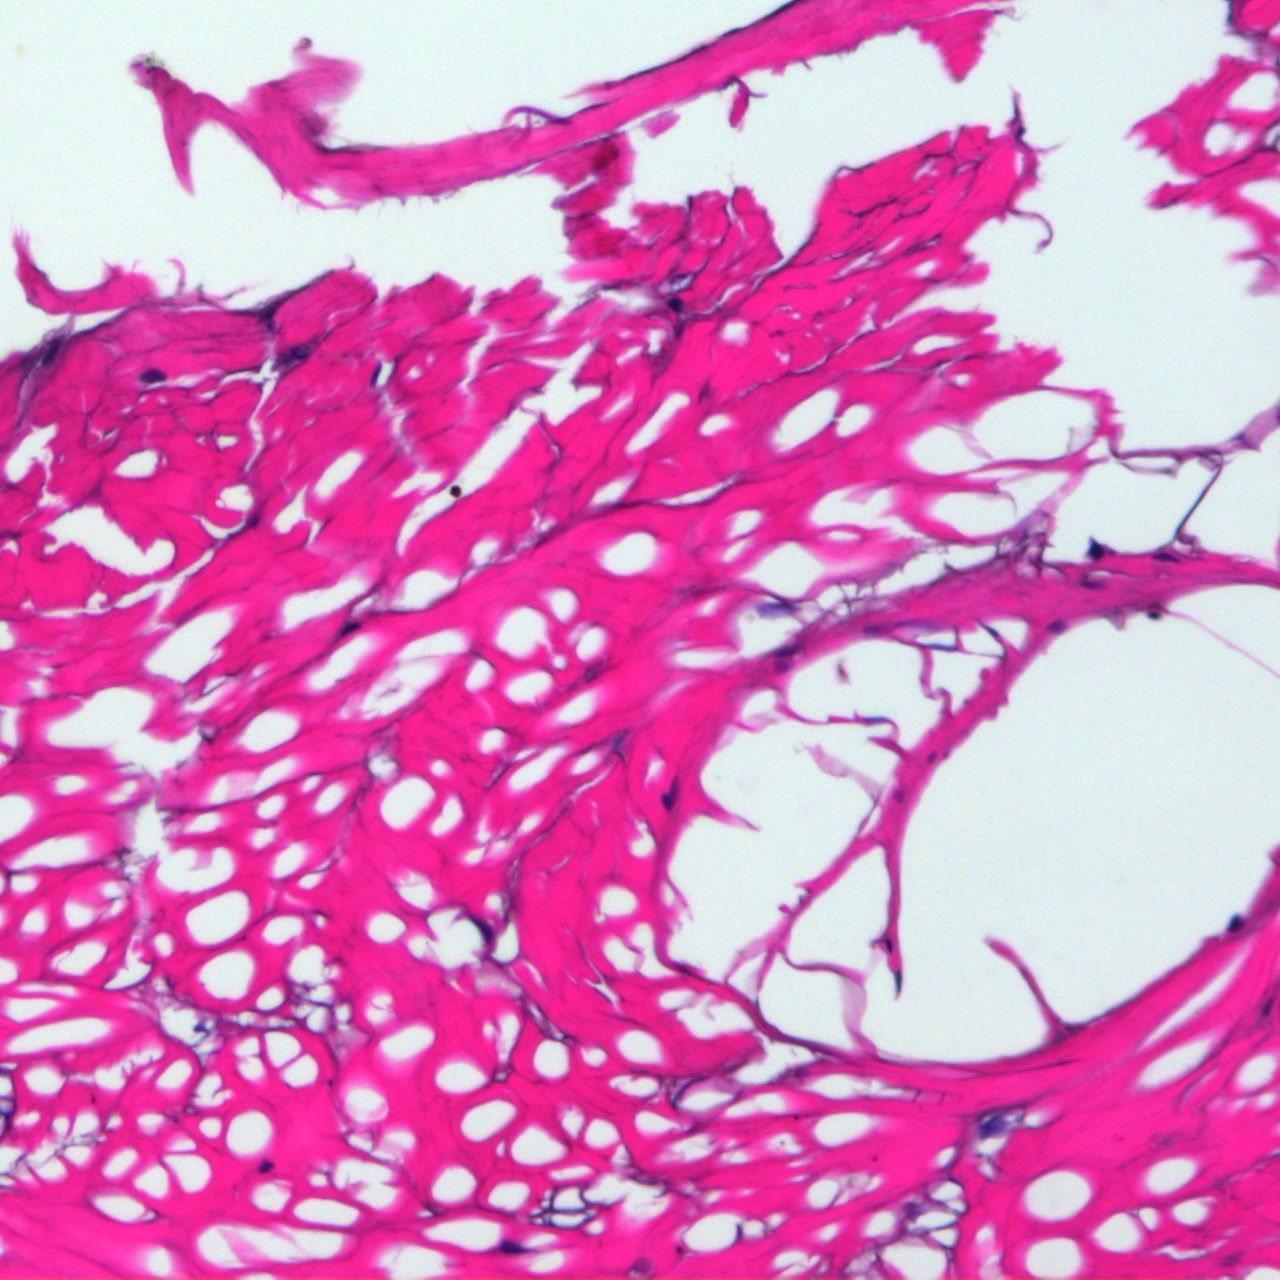dust: (15, 43, 23, 54)
nucleus-HE: (658, 777, 680, 809), (976, 1114, 1005, 1138), (38, 338, 61, 365), (338, 618, 360, 636), (368, 362, 383, 387), (775, 644, 798, 659), (1259, 998, 1275, 1017), (142, 369, 164, 382), (1227, 913, 1242, 932), (502, 1241, 527, 1252), (1153, 551, 1177, 561), (1089, 544, 1104, 559), (1049, 620, 1064, 632), (668, 298, 681, 311), (259, 1160, 273, 1171), (926, 750, 938, 762), (885, 938, 893, 952), (1148, 612, 1160, 619)
